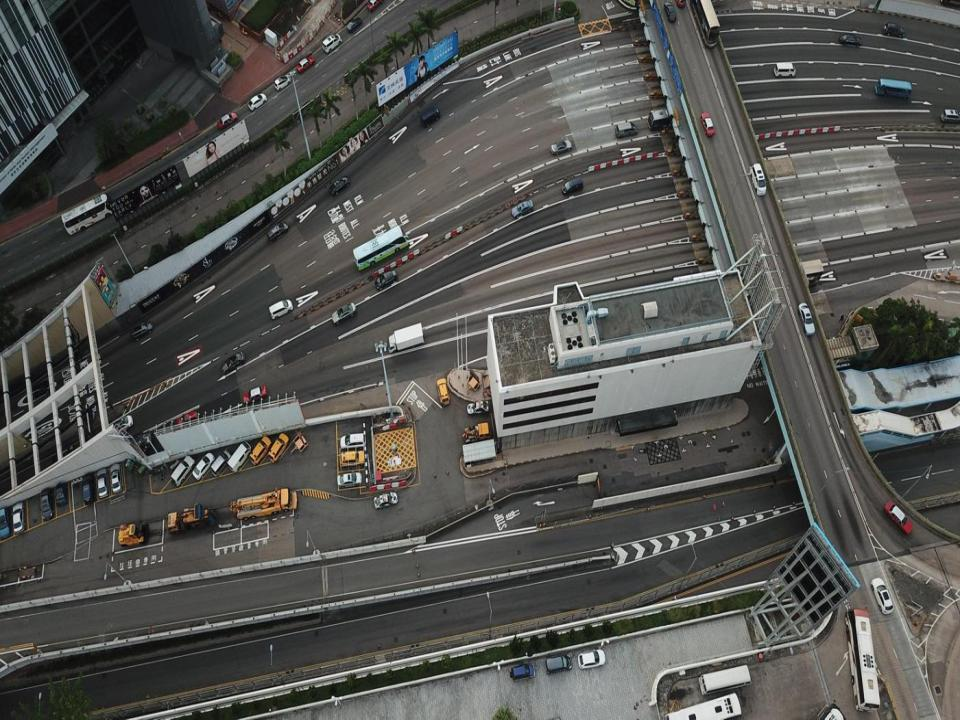bus: (845, 604, 880, 713), (352, 224, 408, 270), (60, 194, 115, 235), (664, 693, 741, 719), (698, 664, 750, 694), (688, 0, 720, 48), (648, 103, 688, 131), (874, 78, 912, 98)
car: (883, 500, 913, 534), (871, 577, 893, 614), (192, 452, 215, 480), (798, 302, 816, 336), (578, 648, 605, 669), (221, 351, 245, 373), (332, 302, 356, 324), (106, 415, 132, 434), (242, 385, 266, 404), (337, 470, 362, 488), (177, 410, 199, 430), (375, 270, 397, 290), (41, 488, 54, 521), (373, 492, 398, 509), (11, 502, 25, 532), (511, 199, 533, 218), (330, 176, 350, 196), (110, 463, 122, 494), (96, 468, 108, 498), (217, 111, 237, 129), (700, 112, 715, 136), (467, 400, 489, 415), (550, 139, 572, 154), (248, 93, 266, 111), (296, 56, 314, 74), (839, 34, 862, 46), (664, 1, 677, 22), (273, 74, 290, 90), (55, 482, 66, 506), (346, 17, 363, 31), (366, 0, 382, 11)
truck: (230, 486, 298, 520), (167, 502, 217, 534), (387, 322, 424, 352), (118, 430, 151, 454), (462, 422, 491, 442)
van: (227, 440, 252, 472), (170, 454, 194, 487), (248, 436, 272, 466), (268, 433, 289, 463), (210, 450, 232, 477), (749, 164, 766, 195), (545, 655, 572, 674), (266, 221, 288, 243), (269, 299, 293, 319), (510, 662, 535, 681), (340, 432, 366, 450), (130, 321, 153, 341), (420, 107, 441, 127), (436, 377, 450, 406), (616, 121, 638, 138), (562, 177, 584, 194), (322, 34, 342, 52), (341, 450, 364, 465), (82, 474, 93, 505), (883, 22, 905, 37), (0, 508, 10, 540), (774, 63, 796, 77), (941, 109, 960, 123)
